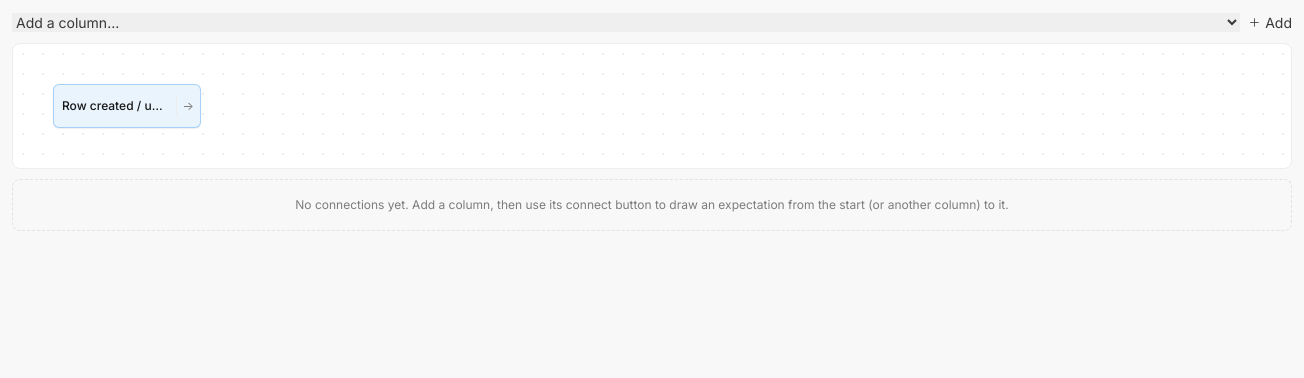
it: ProcessCanvas — nodes › adds a column node from the picker and drops it from the remaining choices
The image size is (1304, 378).
Select "A" in the dropdown with test id "canvas-add-column" at (626, 22), box [12,13,1240,32]
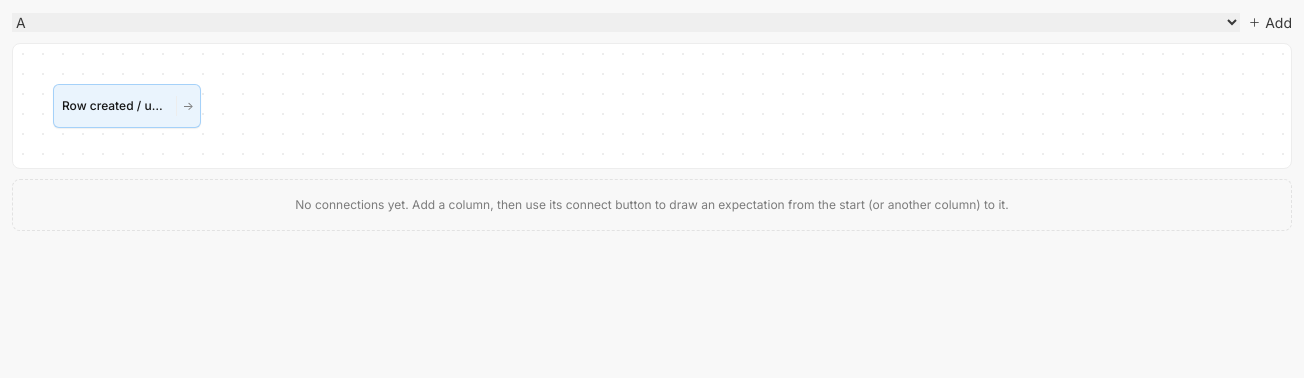
Click the button with test id "canvas-add-node" at (1270, 22), box [1248,12,1292,33]
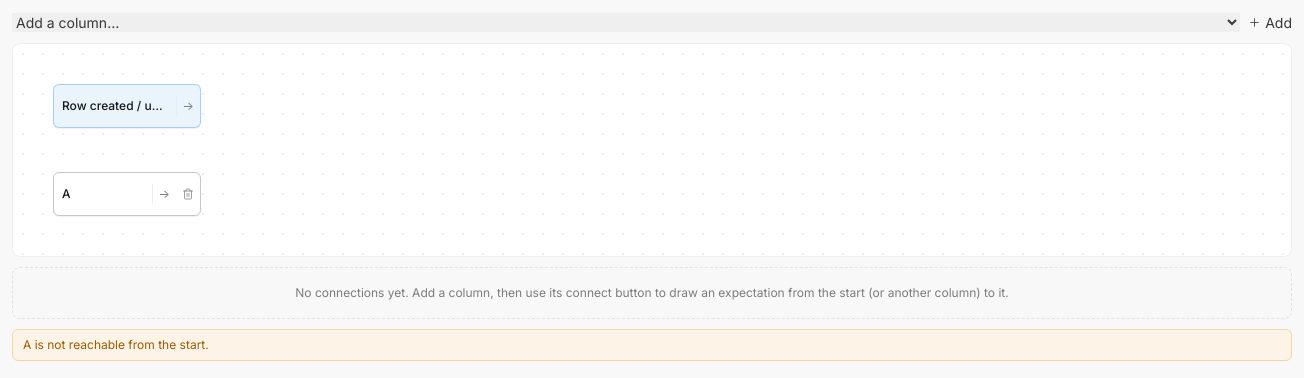
Now the element with test id "canvas-node-a" is shown, box [53,172,201,216]
